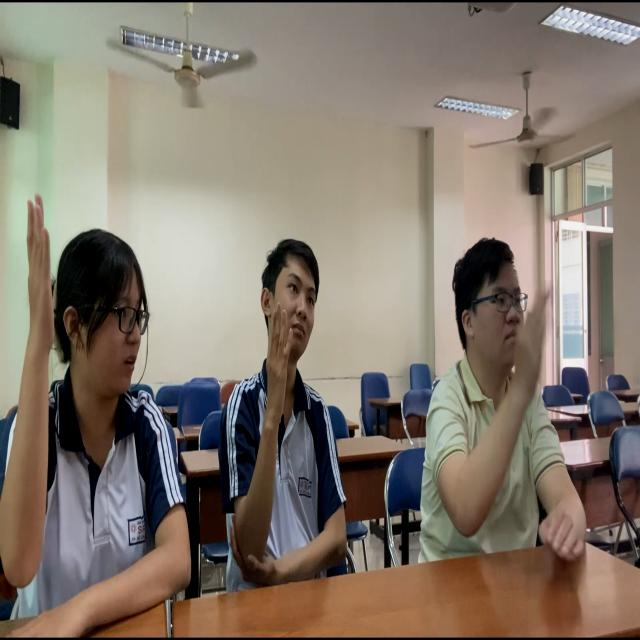raise_hand: (8, 167, 210, 629), (414, 214, 621, 640), (212, 234, 377, 626)
